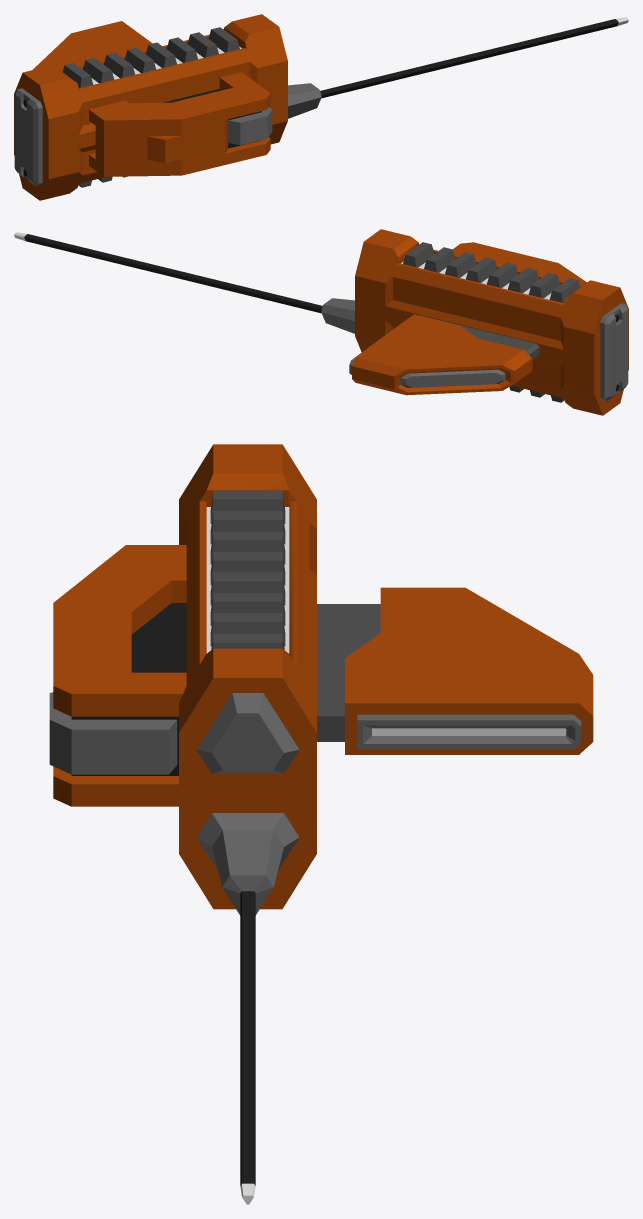
The model's file is Probe.fbx.
3 renders of one model, top to bottom at view 1: azimuth 30°, elevation 25°; view 2: azimuth 150°, elevation 25°; view 3: azimuth 270°, elevation 25°, orthographic. The views are drawn at different scales.
Visible parts, largest first — view 1: group_0.002; view 2: group_0.002; view 3: group_0.002.
Part boxes in pixels (bbox=[...]): group_0.002: bbox=[14, 14, 628, 200]; group_0.002: bbox=[14, 229, 628, 415]; group_0.002: bbox=[49, 444, 593, 1204].
Size of the model in its own units: 369 by 67.52 by 144.
